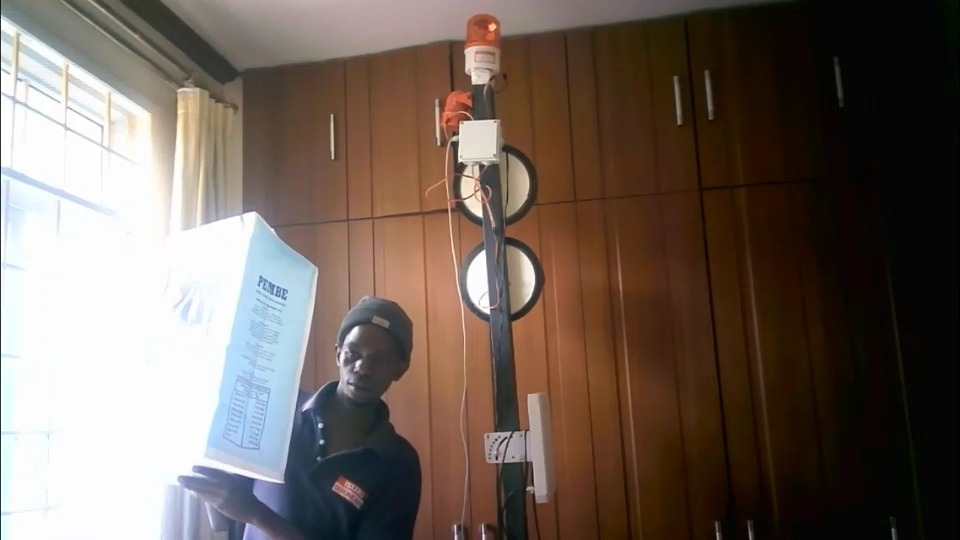wheat_flour_blue_label: (144, 212, 321, 486)
